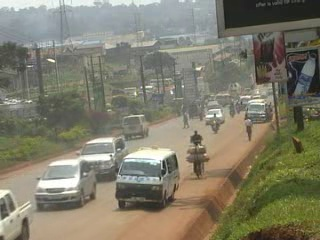Car: (32, 157, 97, 210), (75, 134, 127, 181), (0, 188, 34, 239), (204, 108, 226, 125), (187, 103, 204, 121), (206, 100, 222, 112)
Motorcycle: (208, 119, 219, 133), (228, 106, 235, 119), (236, 105, 240, 115)
